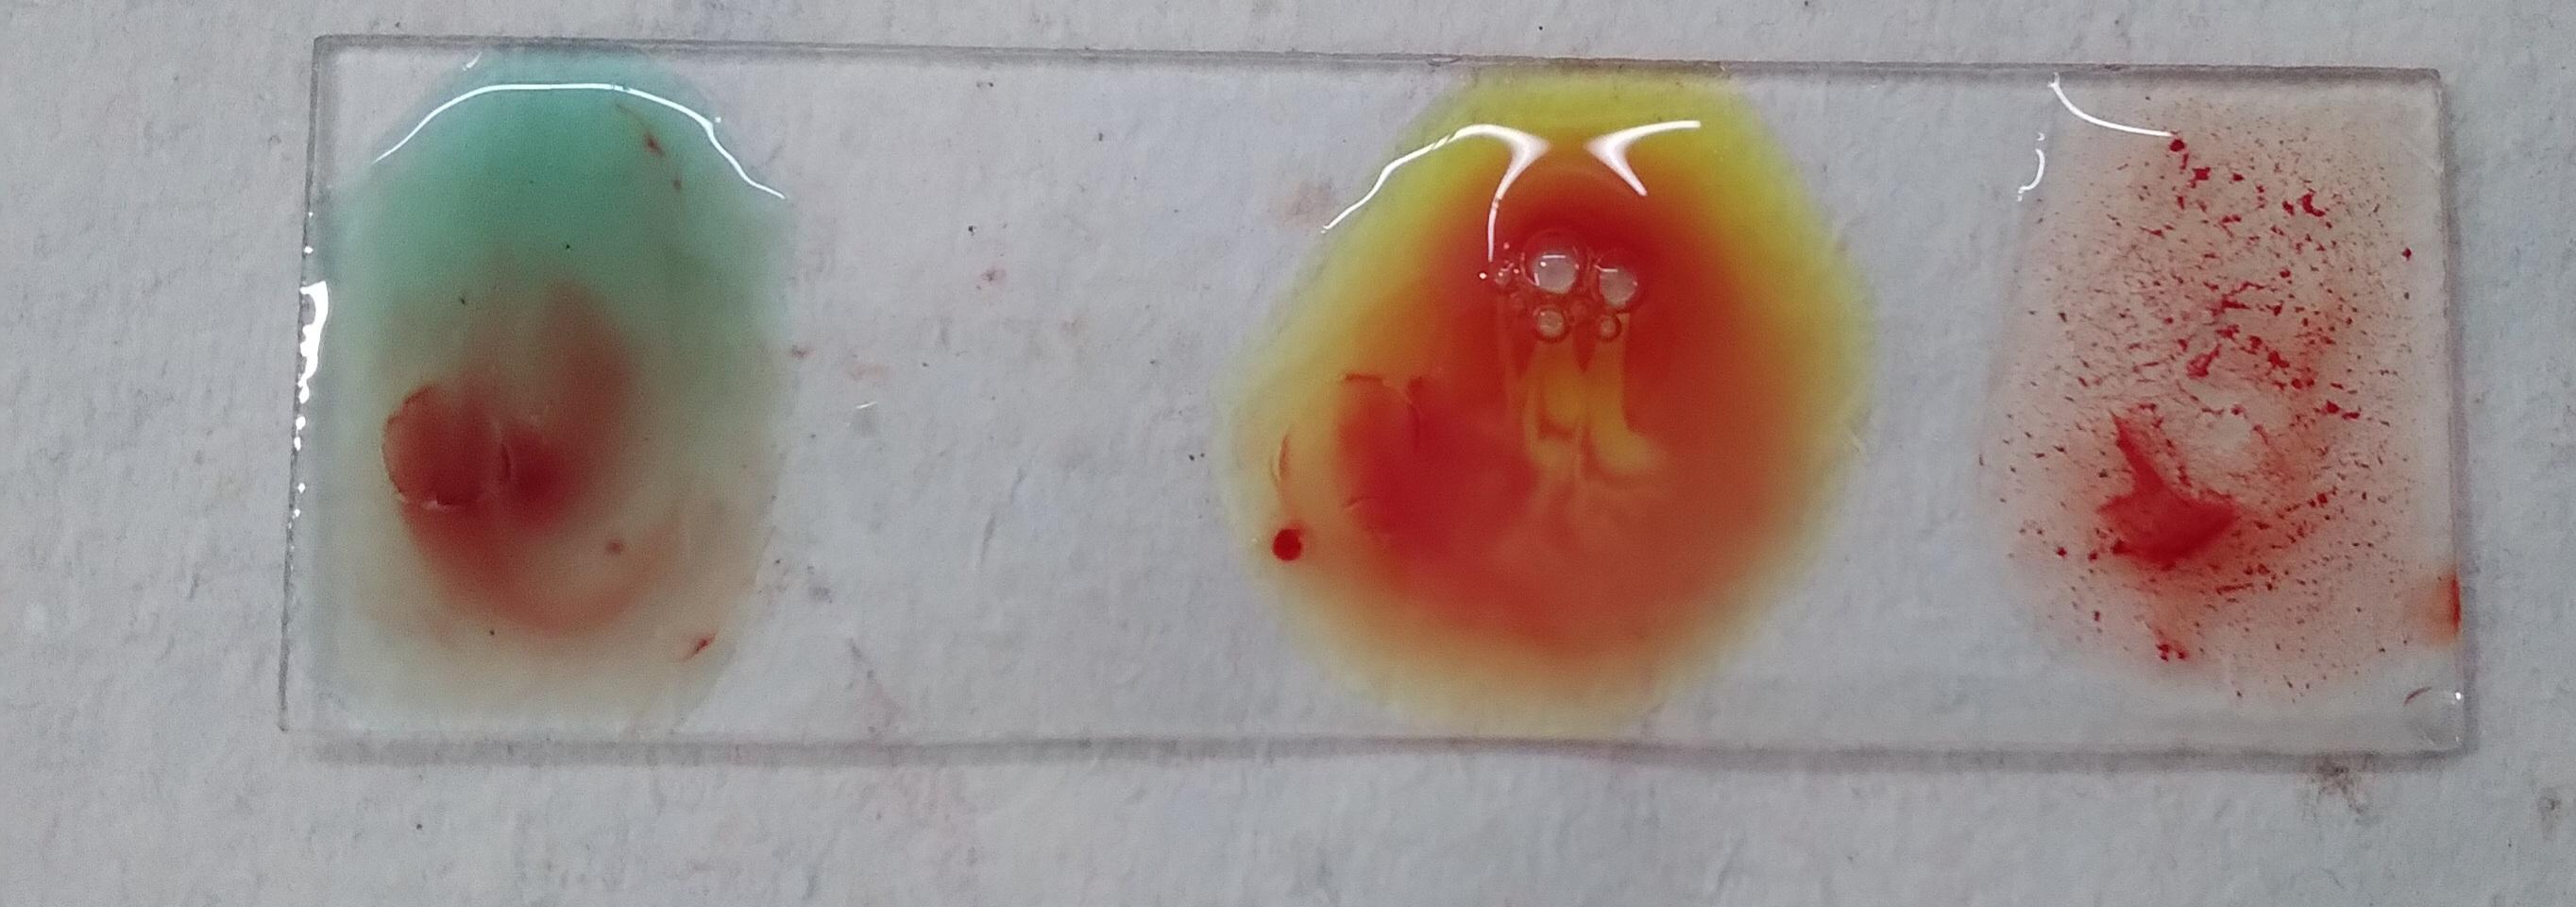D: (2008, 107, 2420, 682)
